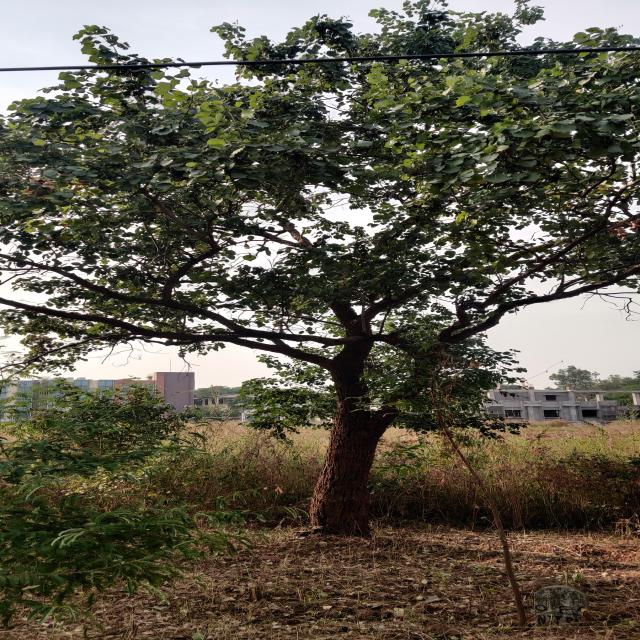Devakanchan tree: (32, 64, 583, 446)
